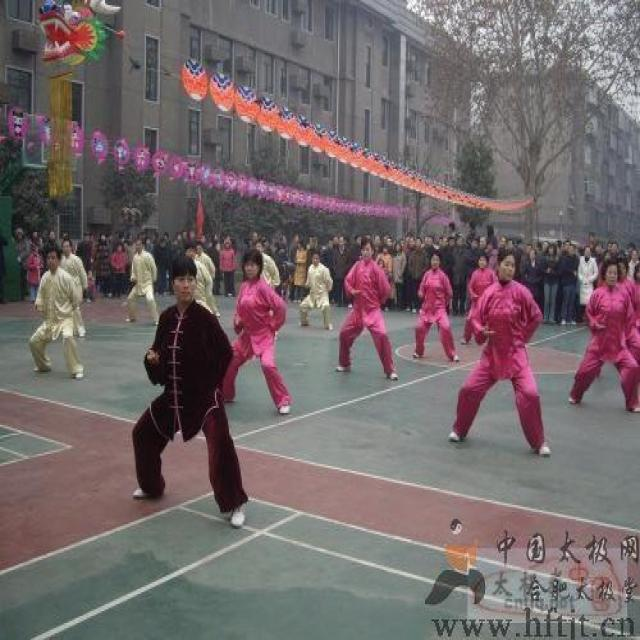non-fight: (134, 246, 247, 536), (450, 246, 550, 459), (568, 251, 639, 413), (230, 246, 292, 418), (334, 236, 399, 384), (31, 237, 87, 381)
